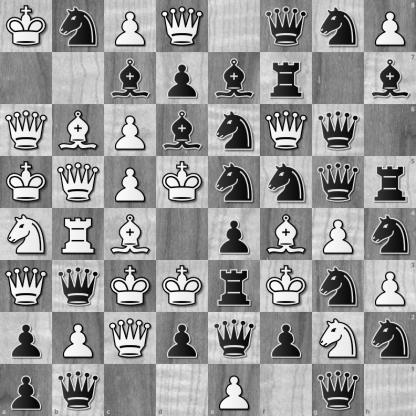B: (53, 105, 104, 156), (105, 209, 156, 260), (261, 209, 312, 260)
K: (1, 1, 52, 52), (1, 157, 52, 208), (105, 261, 156, 312), (157, 157, 208, 208), (157, 261, 208, 312), (261, 261, 312, 312)
N: (1, 209, 52, 260), (313, 313, 364, 364)
P: (364, 0, 416, 52), (364, 260, 416, 312), (209, 364, 260, 416), (53, 313, 104, 364), (105, 1, 156, 52), (105, 105, 156, 156), (105, 157, 156, 208), (313, 209, 364, 260)
Q: (1, 105, 52, 156), (1, 261, 52, 312), (53, 157, 104, 208), (105, 313, 156, 364), (157, 1, 208, 52), (261, 105, 312, 156)
R: (53, 209, 104, 260)
b: (364, 52, 416, 104), (105, 53, 156, 104), (157, 105, 208, 156), (209, 53, 260, 104)
board: (0, 0, 415, 415)
n: (364, 312, 416, 364), (364, 209, 416, 260), (53, 1, 104, 52), (209, 105, 260, 156), (209, 157, 260, 208), (261, 157, 312, 208), (313, 1, 364, 52), (313, 261, 364, 312)
p: (0, 364, 52, 416), (1, 313, 52, 364), (157, 53, 208, 104), (157, 313, 208, 364), (209, 209, 260, 260), (261, 313, 312, 364)
q: (52, 364, 104, 416), (312, 364, 364, 416), (53, 261, 104, 312), (209, 313, 260, 364), (261, 1, 312, 52), (313, 105, 364, 156), (313, 157, 364, 208)
r: (364, 156, 416, 209), (209, 261, 260, 312), (261, 53, 312, 104)
